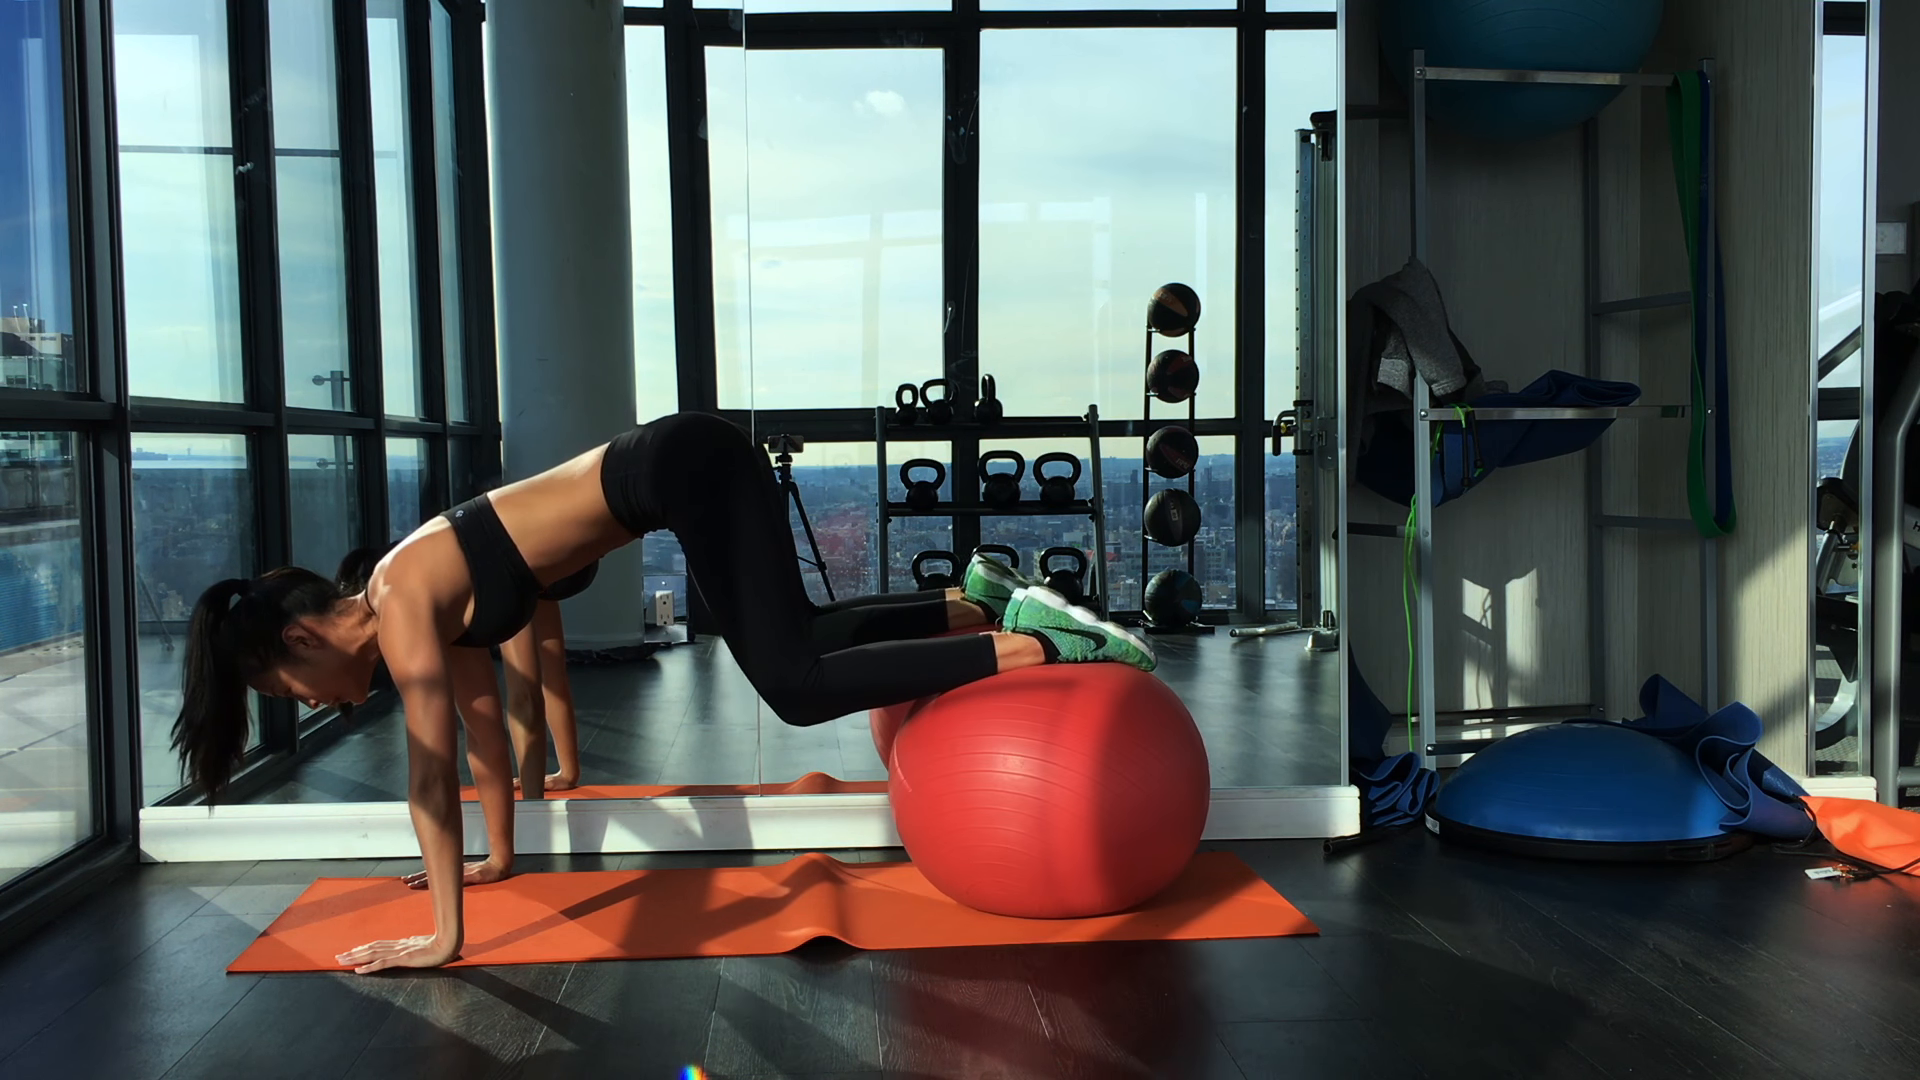yogaball: (881, 654, 1215, 932)
